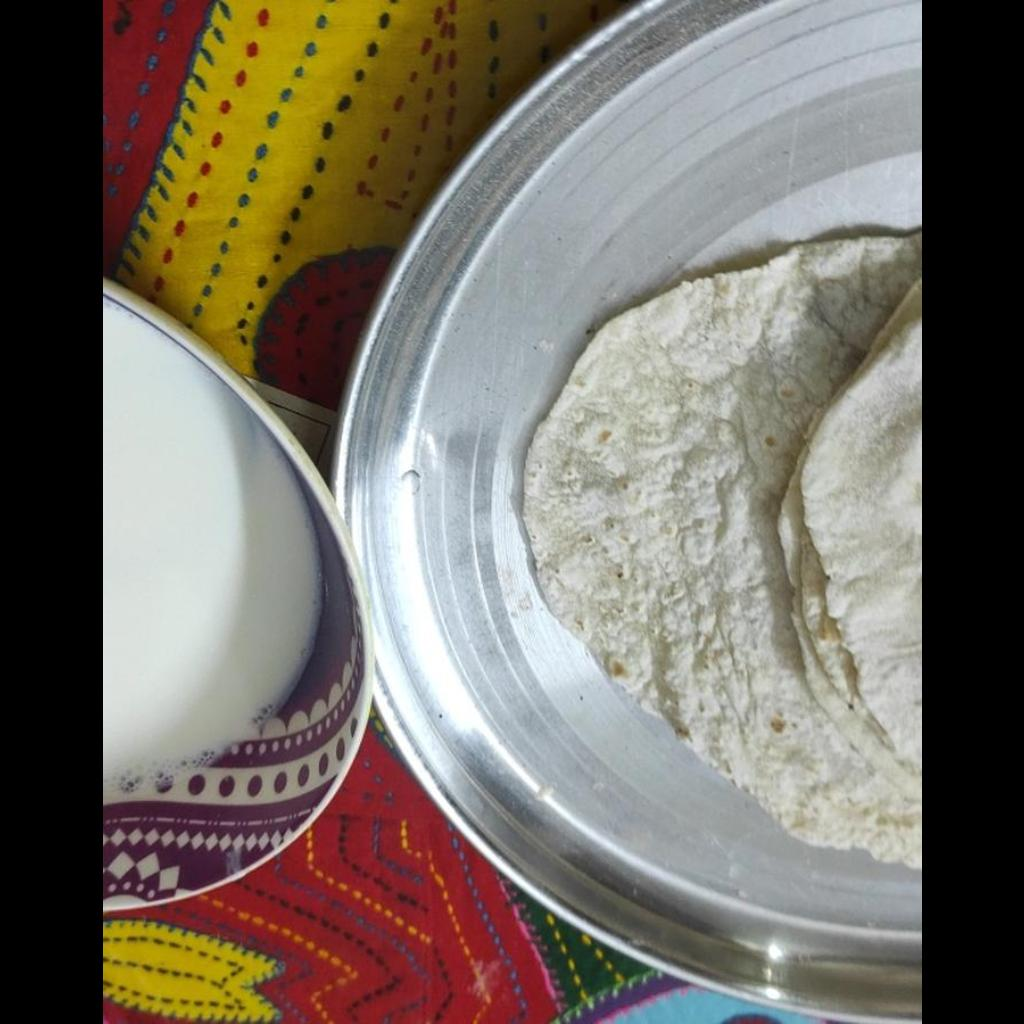milk: (102, 298, 319, 785)
ruti: (525, 233, 920, 873)
